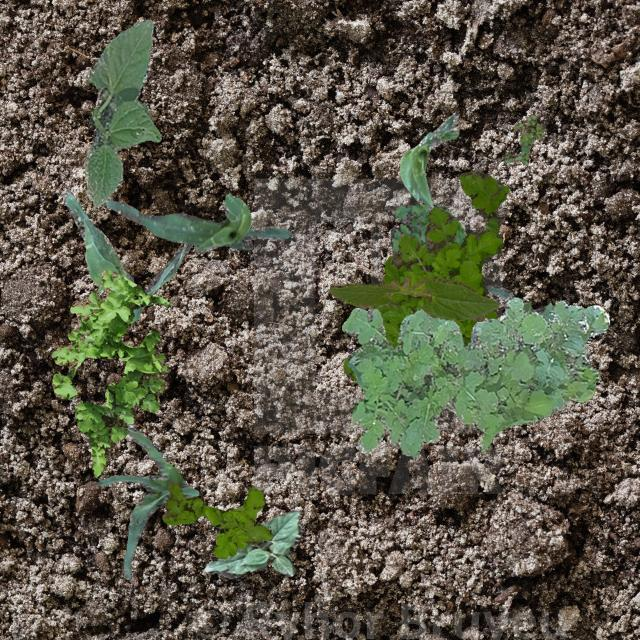crop: (60, 188, 190, 322), (94, 422, 198, 578), (82, 18, 160, 206), (104, 192, 290, 252), (328, 274, 498, 320), (202, 510, 300, 578), (399, 110, 458, 210), (466, 284, 554, 346)
weed: (341, 296, 608, 457), (342, 170, 508, 380), (50, 268, 168, 477), (162, 480, 272, 558), (390, 204, 466, 252), (504, 114, 544, 164)
